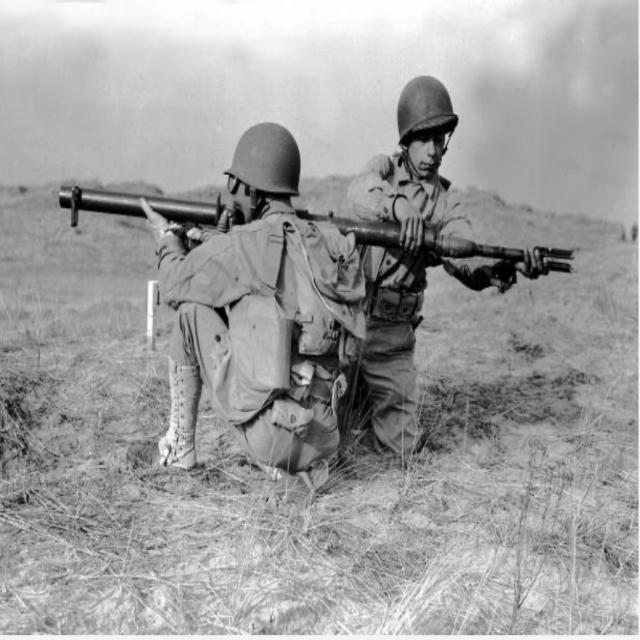bazooka: (47, 172, 585, 294)
